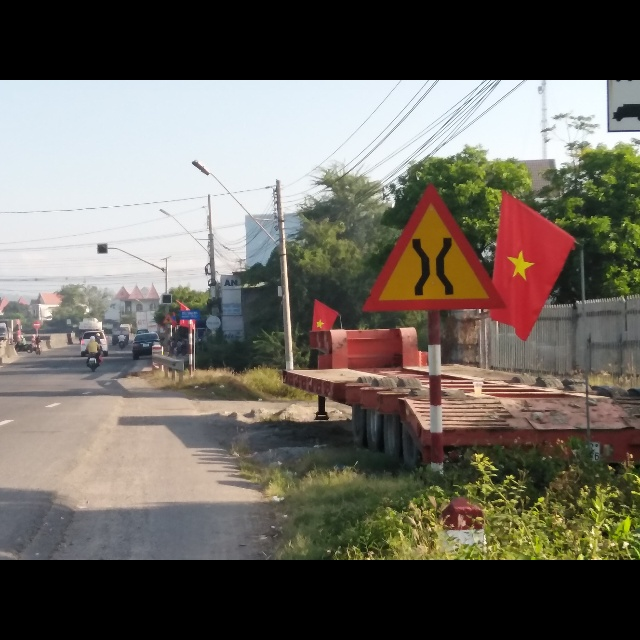Cầu hẹp: (361, 180, 507, 314)
